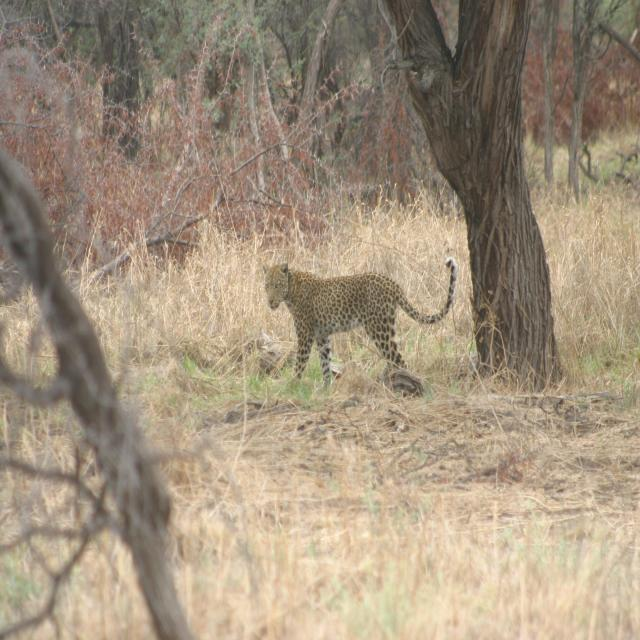Leopard: (258, 247, 463, 398)
